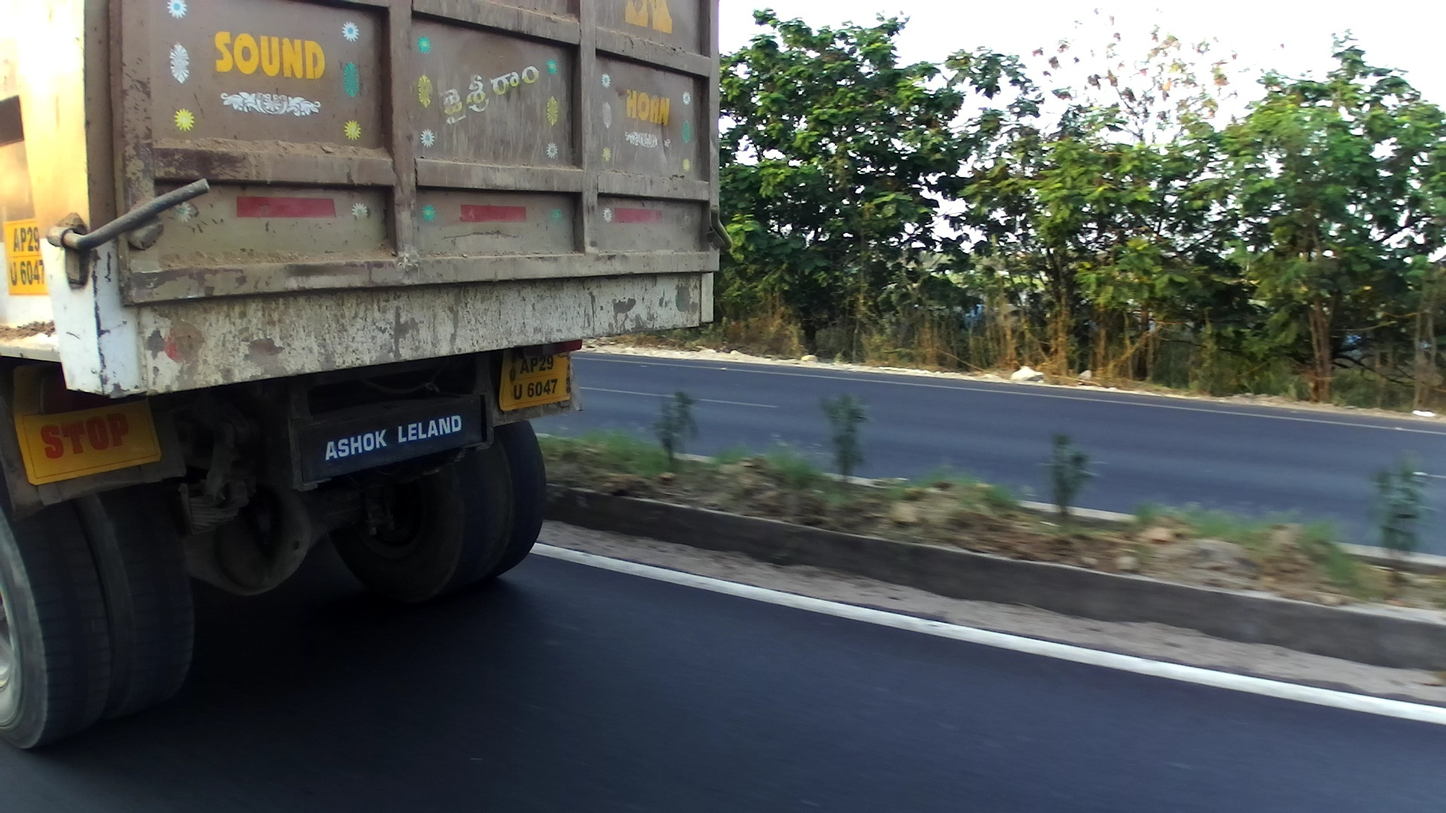truck: (1, 1, 734, 753)
